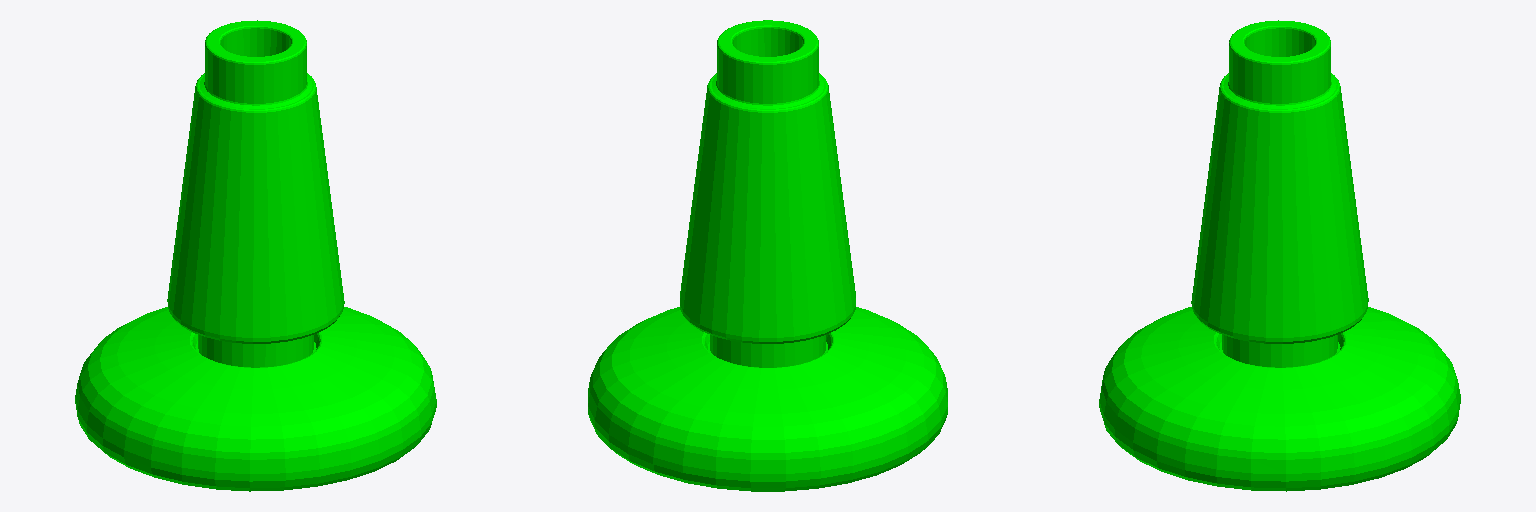
robot.urdf — corn:
<?xml version="1.0"?>
<robot name="corn">
  <link name="base">
   <contact>
      <lateral_friction value="1.0"/>
      <rolling_friction value="0.0"/>
      <contact_cfm value="0.0"/>
      <contact_erp value="1.0"/>
    </contact>
    <inertial>
      <origin rpy="0 0 0" xyz="0 0 0"/>
       <mass value="0.1"/>
       <inertia ixx="1" ixy="0" ixz="0" iyy="1" iyz="0" izz="1"/>
    </inertial>
    <visual>
      <geometry>
        <mesh filename="OBJ/corn.obj" scale="1 1 1"/>
      </geometry>
      <origin rpy="0 0 0" xyz="0 0 0" />
      <material name="green"/>
    </visual>
    <collision>
      <origin rpy="0 0 0" xyz="0 0 0"/>
      <geometry>
         <mesh filename="OBJ/corn.obj" scale="1 1 1"/>
      </geometry>
    </collision>
  </link>

<material name="red"><color rgba="0.99 0 0 1"/></material>
<material name="orange"><color rgba="1 0.5 0 1"/></material>
<material name="yellow"><color rgba="0.95 0.95 0 1"/></material>
<material name="green"><color rgba="0 0.99 0 1"/></material>
<material name="skyblue"><color rgba="0.53 0.81 0.92 1"/></material>
<material name="blue"><color rgba="0 0 0.99 1"/></material>
<material name="purple"><color rgba="0.95 0 0.95 1"/></material>



</robot>

--- Render facts (derived) ---
3 views of the same robot in one strip: view 1: azimuth 30°, elevation 25°; view 2: azimuth 150°, elevation 25°; view 3: azimuth 270°, elevation 25° (orthographic).
Robot: corn — 1 links, 0 joints (none); root link base; default pose: all joints at 0.
Links seen in each view (by area): view 1: base; view 2: base; view 3: base.
Link boxes in pixels (bbox=[...]): base: bbox=[75, 20, 436, 491]; base: bbox=[588, 20, 947, 491]; base: bbox=[1099, 20, 1460, 491].
Bounding box of the posed robot: 0.0801 × 0.0801 × 0.0922 m (x, y, z).
1 mesh visuals loaded from 1 distinct referenced files (1 OBJ).